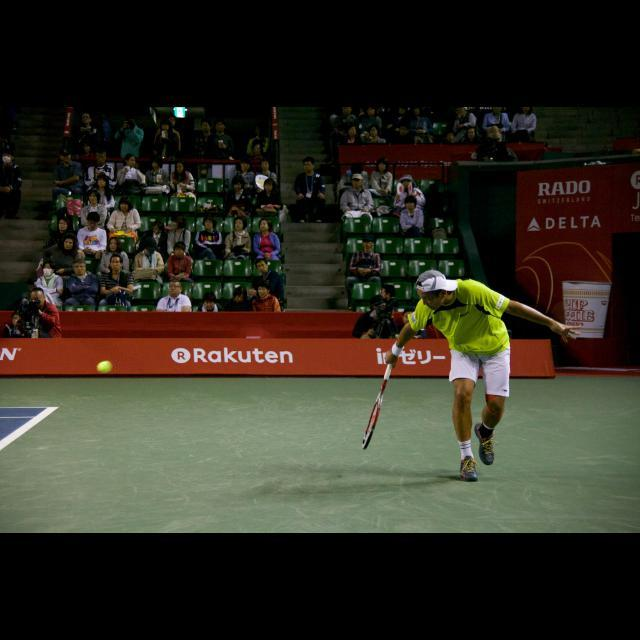tennis ball: (96, 358, 114, 374)
